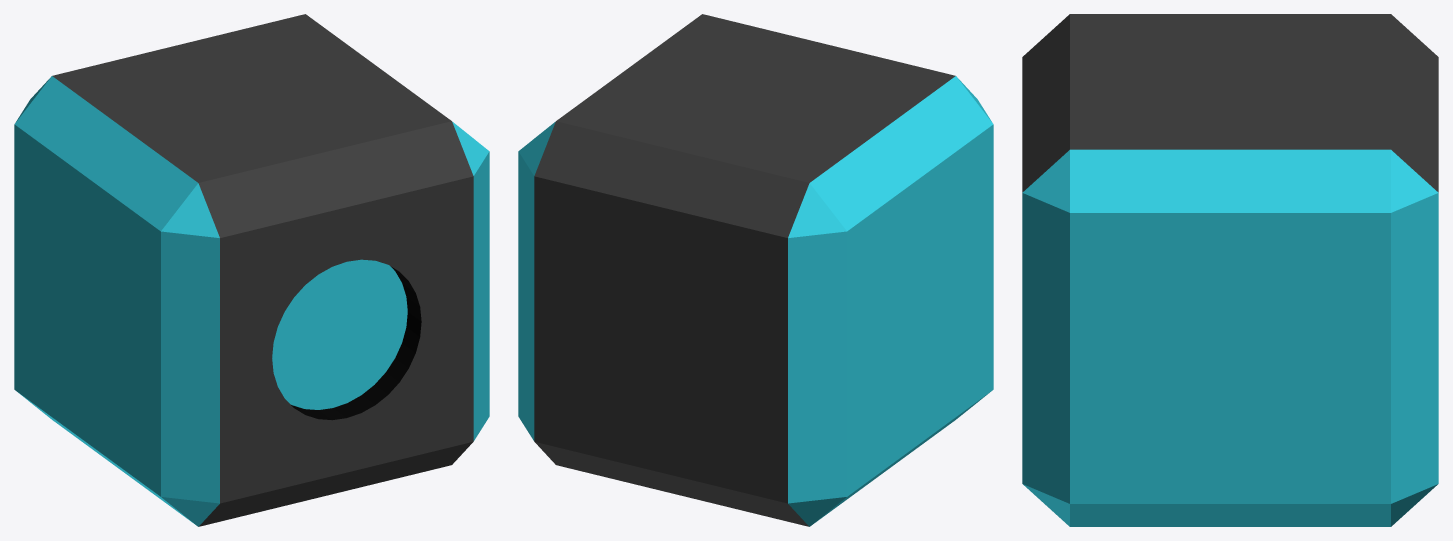
Rendered from cube_bar.fbx.
3 renders of one model, left to right at view 1: azimuth 30°, elevation 25°; view 2: azimuth 150°, elevation 25°; view 3: azimuth 270°, elevation 25°, orthographic. The views are drawn at different scales.
Parts seen in each view (by area): view 1: bar short; view 2: bar short; view 3: bar short.
Part boxes in pixels (left/top/right/bottom): bar short: left=14, top=14, right=489, bottom=526; bar short: left=518, top=14, right=993, bottom=526; bar short: left=1022, top=14, right=1438, bottom=526.
Bounding box in the file's own units: 200 × 200 × 200.
